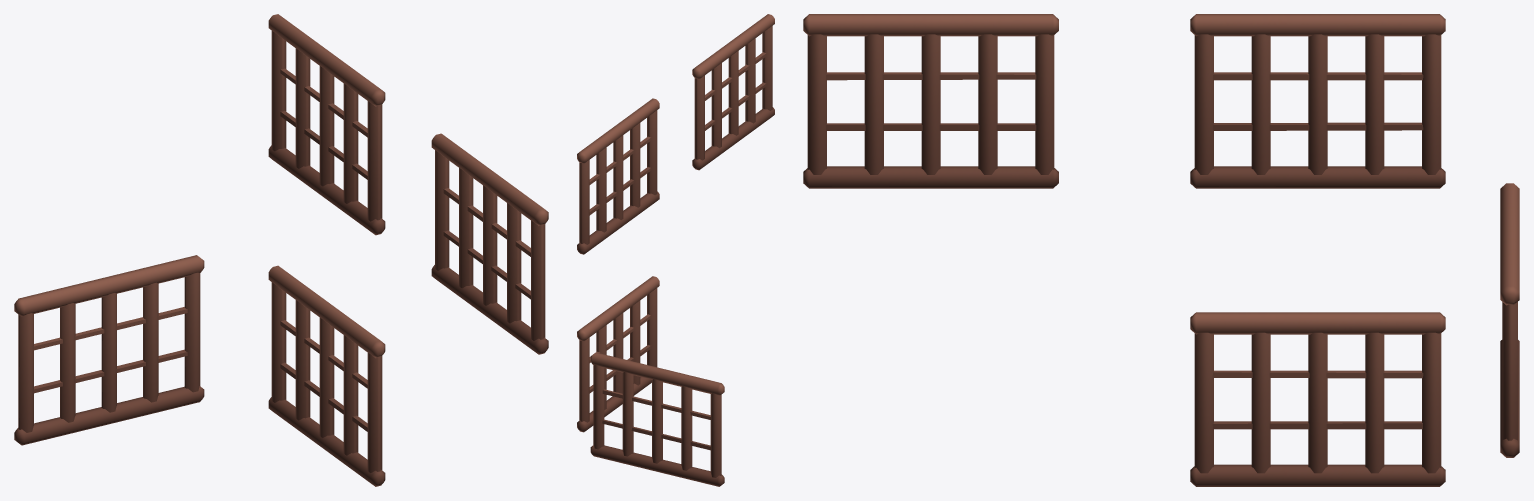
The model's file is SM_Wood_Window_03.fbx.
The picture shows the model from 3 angles, left to right: view 1: azimuth 30°, elevation 25°; view 2: azimuth 150°, elevation 25°; view 3: azimuth 270°, elevation 25°; orthographic projection. The views are drawn at different scales.
Visible parts, largest first — view 1: SM_Wood_Window_03; view 2: SM_Wood_Window_03; view 3: SM_Wood_Window_03.
Part boxes in pixels (x1,y1,x2,y2): SM_Wood_Window_03: (14,14,548,486); SM_Wood_Window_03: (577,14,774,486); SM_Wood_Window_03: (803,14,1519,486).
Size of the model in its own units: 0.7859 by 1.26 by 1.74.
